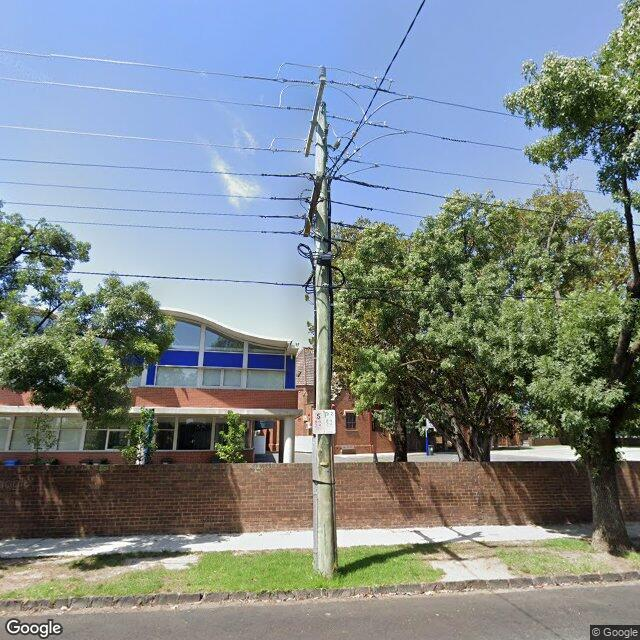HV-transmission: (319, 65, 326, 81)
crossarm: (304, 80, 325, 158), (304, 176, 322, 236)
timber-pole: (313, 105, 336, 580)
